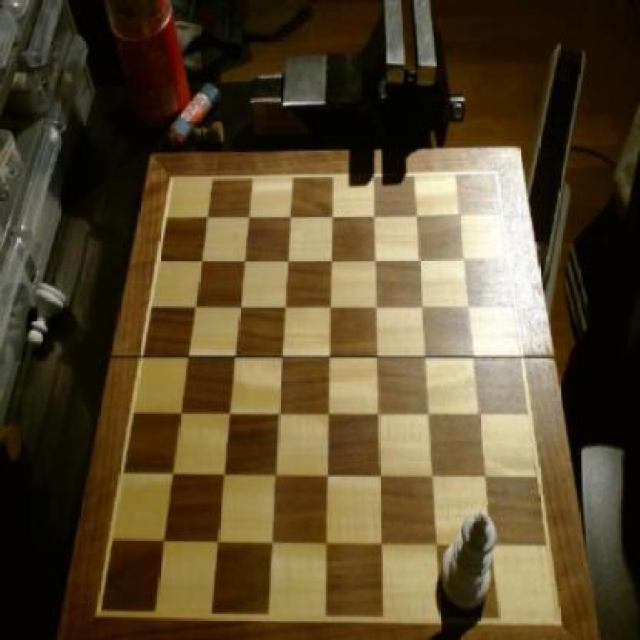white-bishop: (444, 506, 498, 617)
